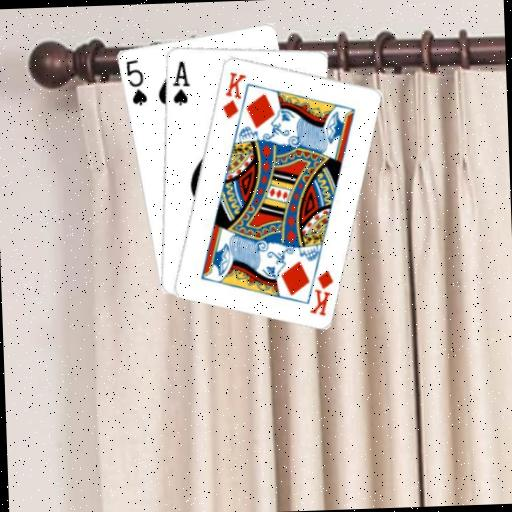5S: (122, 55, 148, 107)
AS: (167, 56, 191, 106)
KD: (218, 67, 249, 120), (305, 267, 336, 318)
